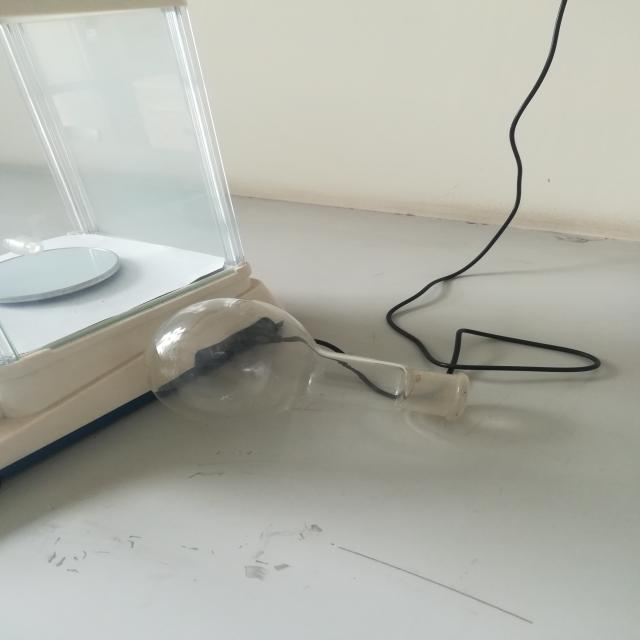Round_Bottom_Flask_Borosilicate_Glass_1_Neck: (112, 265, 502, 472)
